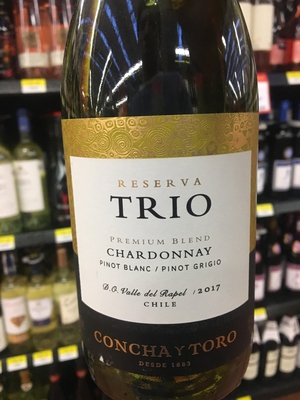trio chardonnay: (58, 16, 261, 400)
